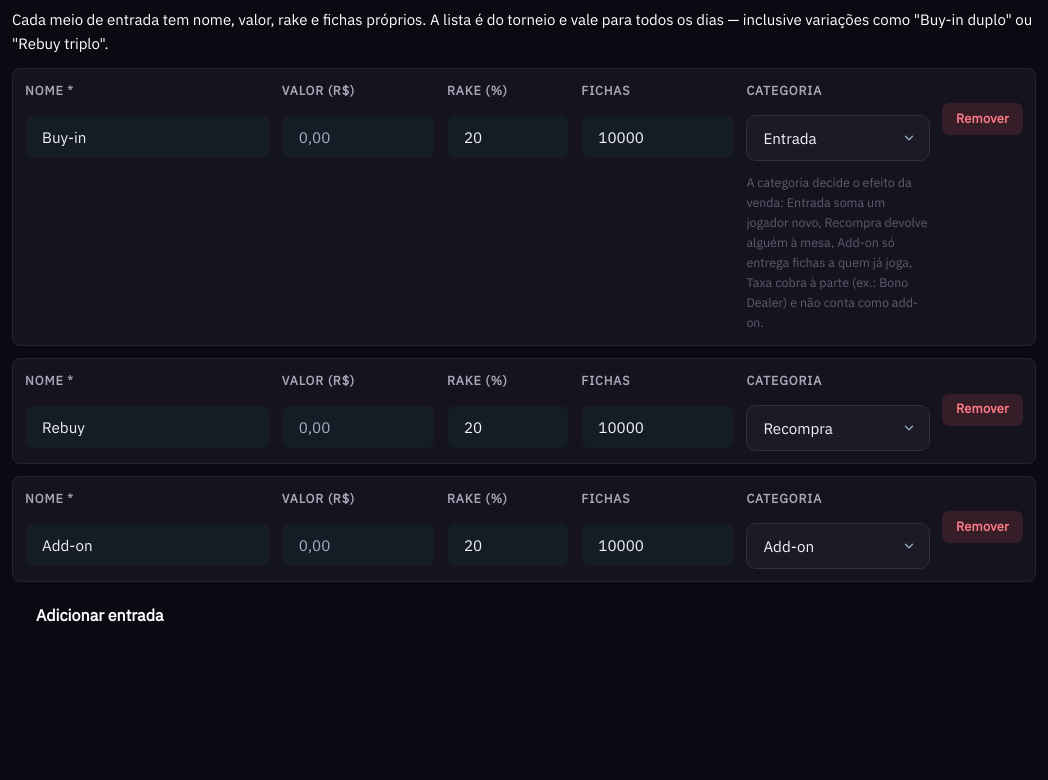
it: adicionar entrada › acrescenta uma linha em branco, com rake 20, sem opção pré-pronta
Click the button "Adicionar entrada" at (100, 615), box [12,596,188,634]
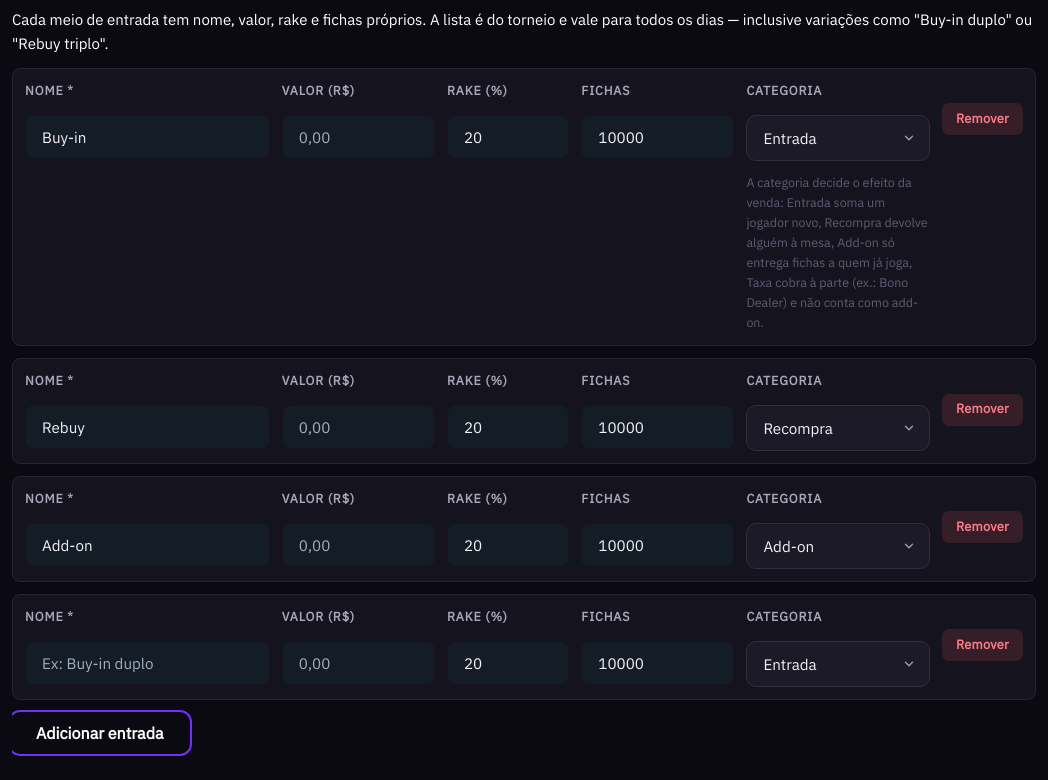
Result: the 4th field labelled "Nome *" is empty at [25,641,270,685]
Result: the 4th number field labelled "Valor (R$)" is not empty at [282,641,435,685]
Result: the 4th number field labelled "Rake (%)" holds "20" at [447,641,569,685]
